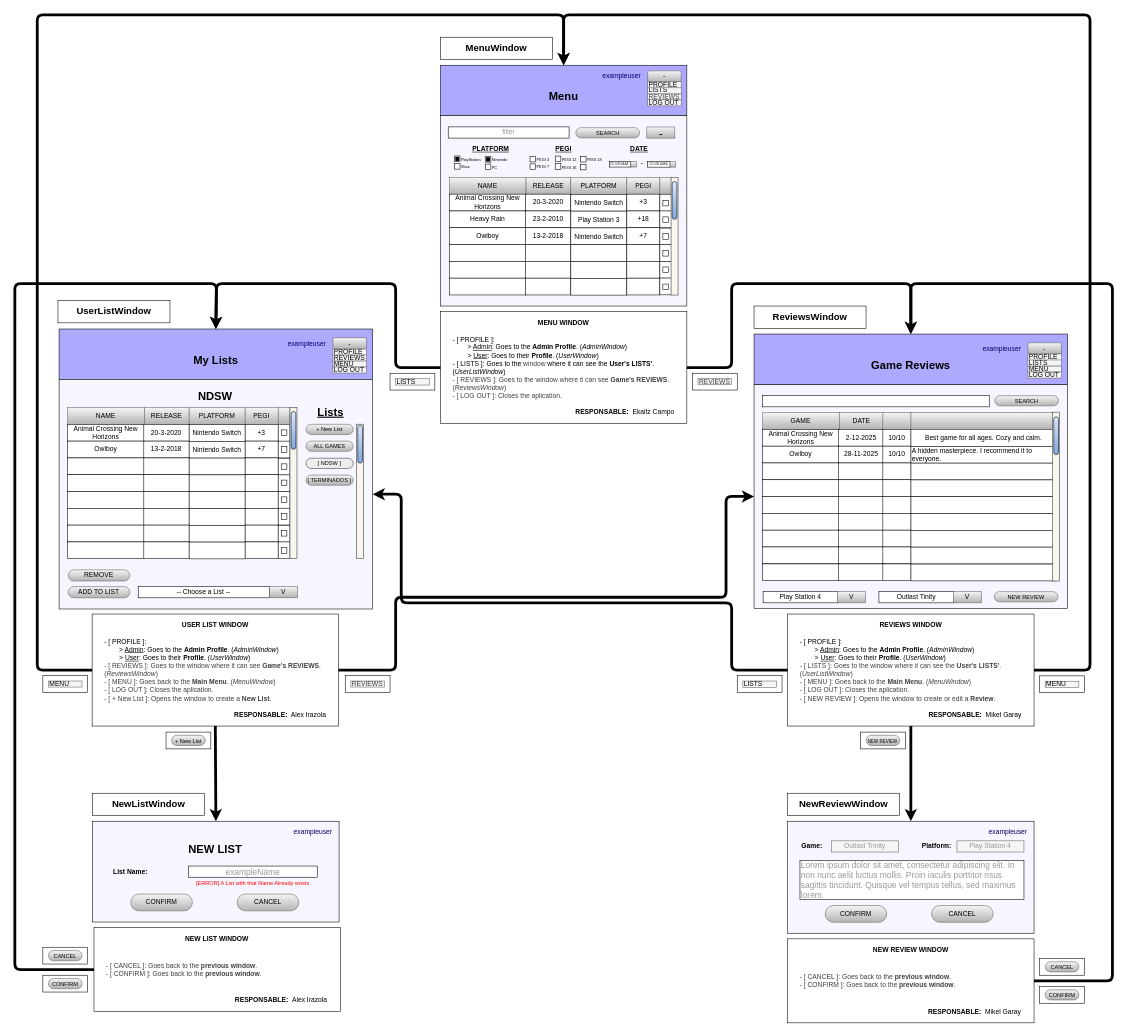
Some shapes in this 1128 by 1033 pixel diagram are drawn without their labels. Each missing label, with the centre of its shape:
"filtros" goes at point (875, 401).
"REVIEW" goes at point (983, 420).
"SCORE" goes at point (896, 420).
